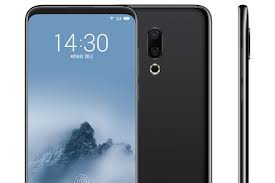meizu: (21, 3, 216, 182), (21, 2, 136, 183)
